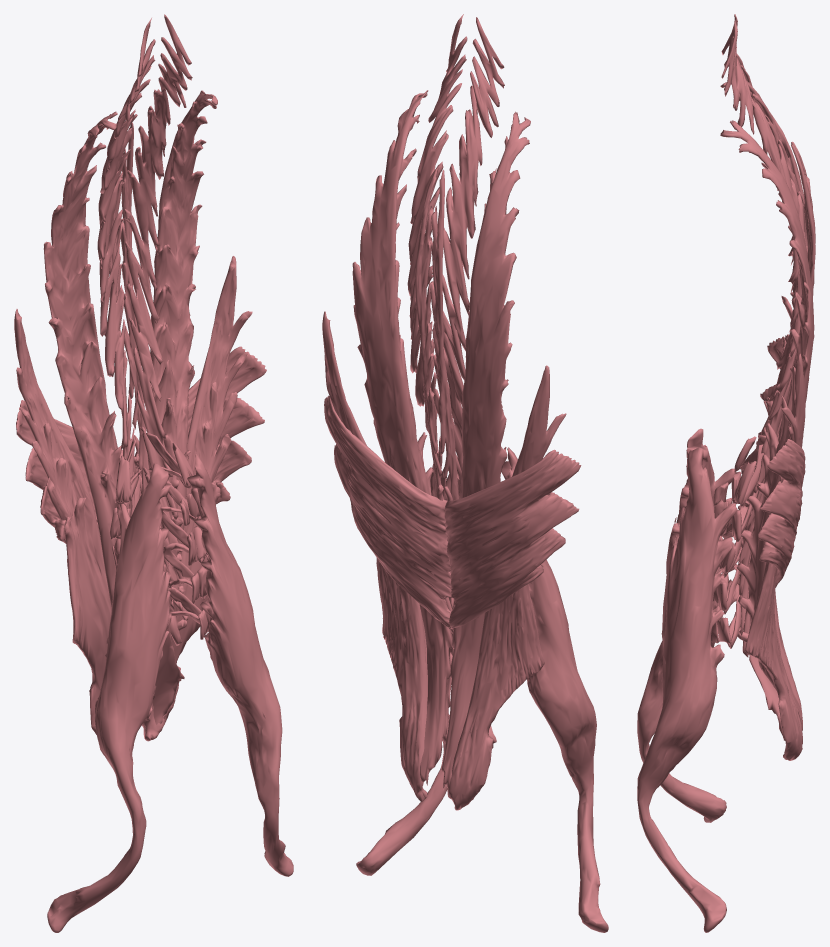
File: z-anatomy-1.4.0-lumbar-addon.glb
3 views of the same model, side by side, from view 1: azimuth 30°, elevation 25°; view 2: azimuth 150°, elevation 25°; view 3: azimuth 270°, elevation 25° (orthographic). The views are drawn at different scales.
Parts seen in each view (by area): view 1: lumbar-psoas-major-muscles-psoas-major-right__Psoas major.r, longissimus-thoracis-muscles-longissimus-thoracis-muscle-rig, lumbar-psoas-major-muscles-psoas-major-left__Psoas major.l, longissimus-thoracis-muscles-longissimus-thoracis-muscle-lef, rotatores-muscles-rotatores-left__Rotatores.l, iliocostalis-lumborum-muscles-iliocostalis-lumborum-muscle-r, iliocostalis-lumborum-muscles-iliocostalis-lumborum-muscle-l, rotatores-muscles-rotatores-right__Rotatores.r, serratus-posterior-inferior-muscles-serratus-posterior-infer (×2), spinalis-thoracis-muscles-spinalis-thoracis-muscle-left__Spi, multifidus-lumborum-muscles-multifidus-lumborum-muscle-left_, lateral-intertransversarii-lumborum-muscles-dorsal-parts-of- (×2) (+2 smaller); view 2: serratus-posterior-inferior-muscles-serratus-posterior-infer (×2), longissimus-thoracis-muscles-longissimus-thoracis-muscle-lef, longissimus-thoracis-muscles-longissimus-thoracis-muscle-rig, iliocostalis-lumborum-muscles-iliocostalis-lumborum-muscle-r, lumbar-psoas-major-muscles-psoas-major-right__Psoas major.r, rotatores-muscles-rotatores-right__Rotatores.r, iliocostalis-lumborum-muscles-iliocostalis-lumborum-muscle-l, rotatores-muscles-rotatores-left__Rotatores.l, spinalis-thoracis-muscles-spinalis-thoracis-muscle-right__Sp, spinalis-thoracis-muscles-spinalis-thoracis-muscle-left__Spi, lumbar-psoas-major-muscles-psoas-major-left__Psoas major.l; view 3: lumbar-psoas-major-muscles-psoas-major-left__Psoas major.l, longissimus-thoracis-muscles-longissimus-thoracis-muscle-lef, rotatores-muscles-rotatores-left__Rotatores.l, lumbar-psoas-major-muscles-psoas-major-right__Psoas major.r, iliocostalis-lumborum-muscles-iliocostalis-lumborum-muscle-l, serratus-posterior-inferior-muscles-serratus-posterior-infer (×2), lateral-intertransversarii-lumborum-muscles-dorsal-parts-of- (×2), rotatores-muscles-rotatores-right__Rotatores.r, multifidus-lumborum-muscles-multifidus-lumborum-muscle-left_, spinalis-thoracis-muscles-spinalis-thoracis-muscle-left__Spi, longissimus-thoracis-muscles-longissimus-thoracis-muscle-rig, iliocostalis-lumborum-muscles-iliocostalis-lumborum-muscle-r (+1 smaller).
Part boxes in pixels (x1,y1,x2,y2): lumbar-psoas-major-muscles-psoas-major-right__Psoas major.r: [47, 463, 171, 932]; longissimus-thoracis-muscles-longissimus-thoracis-muscle-rig: [43, 111, 121, 607]; lumbar-psoas-major-muscles-psoas-major-left__Psoas major.l: [187, 454, 293, 876]; longissimus-thoracis-muscles-longissimus-thoracis-muscle-lef: [148, 90, 217, 639]; rotatores-muscles-rotatores-left__Rotatores.l: [124, 14, 192, 740]; iliocostalis-lumborum-muscles-iliocostalis-lumborum-muscle-r: [14, 309, 111, 734]; iliocostalis-lumborum-muscles-iliocostalis-lumborum-muscle-l: [142, 256, 252, 741]; rotatores-muscles-rotatores-right__Rotatores.r: [95, 18, 155, 713]; serratus-posterior-inferior-muscles-serratus-posterior-infer (×2): [16, 346, 266, 543]; spinalis-thoracis-muscles-spinalis-thoracis-muscle-left__Spi: [120, 122, 149, 492]; multifidus-lumborum-muscles-multifidus-lumborum-muscle-left_: [146, 432, 207, 623]; lateral-intertransversarii-lumborum-muscles-dorsal-parts-of- (×2): [106, 442, 209, 643]; serratus-posterior-inferior-muscles-serratus-posterior-infer (×2): [324, 395, 581, 630]; longissimus-thoracis-muscles-longissimus-thoracis-muscle-lef: [352, 90, 452, 785]; longissimus-thoracis-muscles-longissimus-thoracis-muscle-rig: [441, 111, 530, 789]; iliocostalis-lumborum-muscles-iliocostalis-lumborum-muscle-r: [447, 365, 566, 810]; lumbar-psoas-major-muscles-psoas-major-right__Psoas major.r: [501, 447, 608, 932]; rotatores-muscles-rotatores-right__Rotatores.r: [442, 17, 504, 748]; iliocostalis-lumborum-muscles-iliocostalis-lumborum-muscle-l: [322, 311, 427, 801]; rotatores-muscles-rotatores-left__Rotatores.l: [407, 14, 467, 798]; spinalis-thoracis-muscles-spinalis-thoracis-muscle-right__Sp: [430, 170, 458, 500]; spinalis-thoracis-muscles-spinalis-thoracis-muscle-left__Spi: [415, 168, 454, 600]; lumbar-psoas-major-muscles-psoas-major-left__Psoas major.l: [356, 474, 459, 875]; lumbar-psoas-major-muscles-psoas-major-left__Psoas major.l: [637, 447, 735, 932]; longissimus-thoracis-muscles-longissimus-thoracis-muscle-lef: [720, 120, 814, 728]; rotatores-muscles-rotatores-left__Rotatores.l: [721, 20, 805, 757]; lumbar-psoas-major-muscles-psoas-major-right__Psoas major.r: [637, 428, 735, 822]; iliocostalis-lumborum-muscles-iliocostalis-lumborum-muscle-l: [745, 353, 805, 760]; serratus-posterior-inferior-muscles-serratus-posterior-infer (×2): [758, 334, 805, 587]; lateral-intertransversarii-lumborum-muscles-dorsal-parts-of- (×2): [716, 436, 756, 643]; rotatores-muscles-rotatores-right__Rotatores.r: [721, 14, 805, 544]; multifidus-lumborum-muscles-multifidus-lumborum-muscle-left_: [723, 444, 763, 648]; spinalis-thoracis-muscles-spinalis-thoracis-muscle-left__Spi: [779, 144, 815, 442]; longissimus-thoracis-muscles-longissimus-thoracis-muscle-rig: [720, 82, 814, 724]; iliocostalis-lumborum-muscles-iliocostalis-lumborum-muscle-r: [774, 296, 802, 740].
Bounding box in the file's own units: 0.2222 × 0.7449 × 0.1398.
